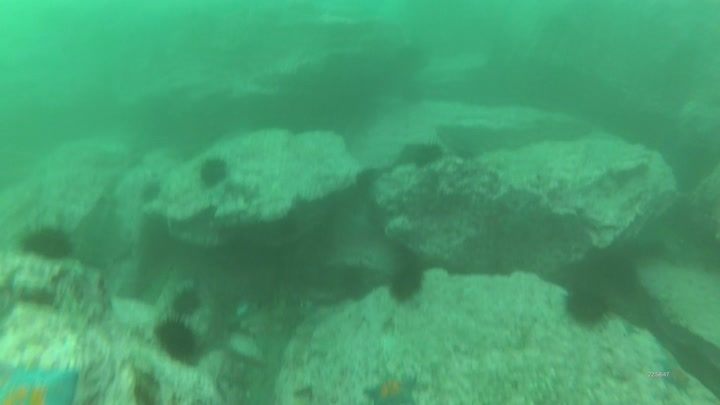echinus: (153, 311, 207, 366), (562, 283, 613, 334), (19, 224, 76, 262), (386, 263, 426, 305), (197, 152, 230, 189), (170, 286, 203, 319), (414, 140, 446, 173), (139, 181, 163, 205)
starfish: (1, 363, 82, 405), (361, 374, 420, 405), (661, 359, 692, 397)
